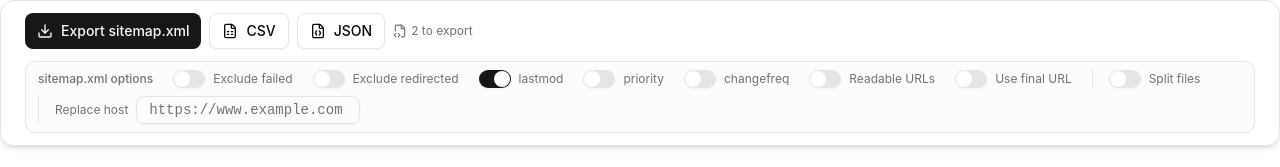
it: ExportBar › reports the export result in the active locale / 以當前語系回報結果
This screenshot has width=1280, height=167.
Click the button "JSON" at (341, 31), box 297,13 -> 385,49
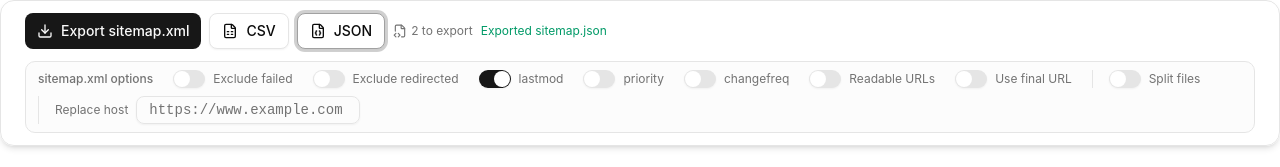
expect the text "Exported sitemap.json" is shown: met, box 481,23 -> 607,39
